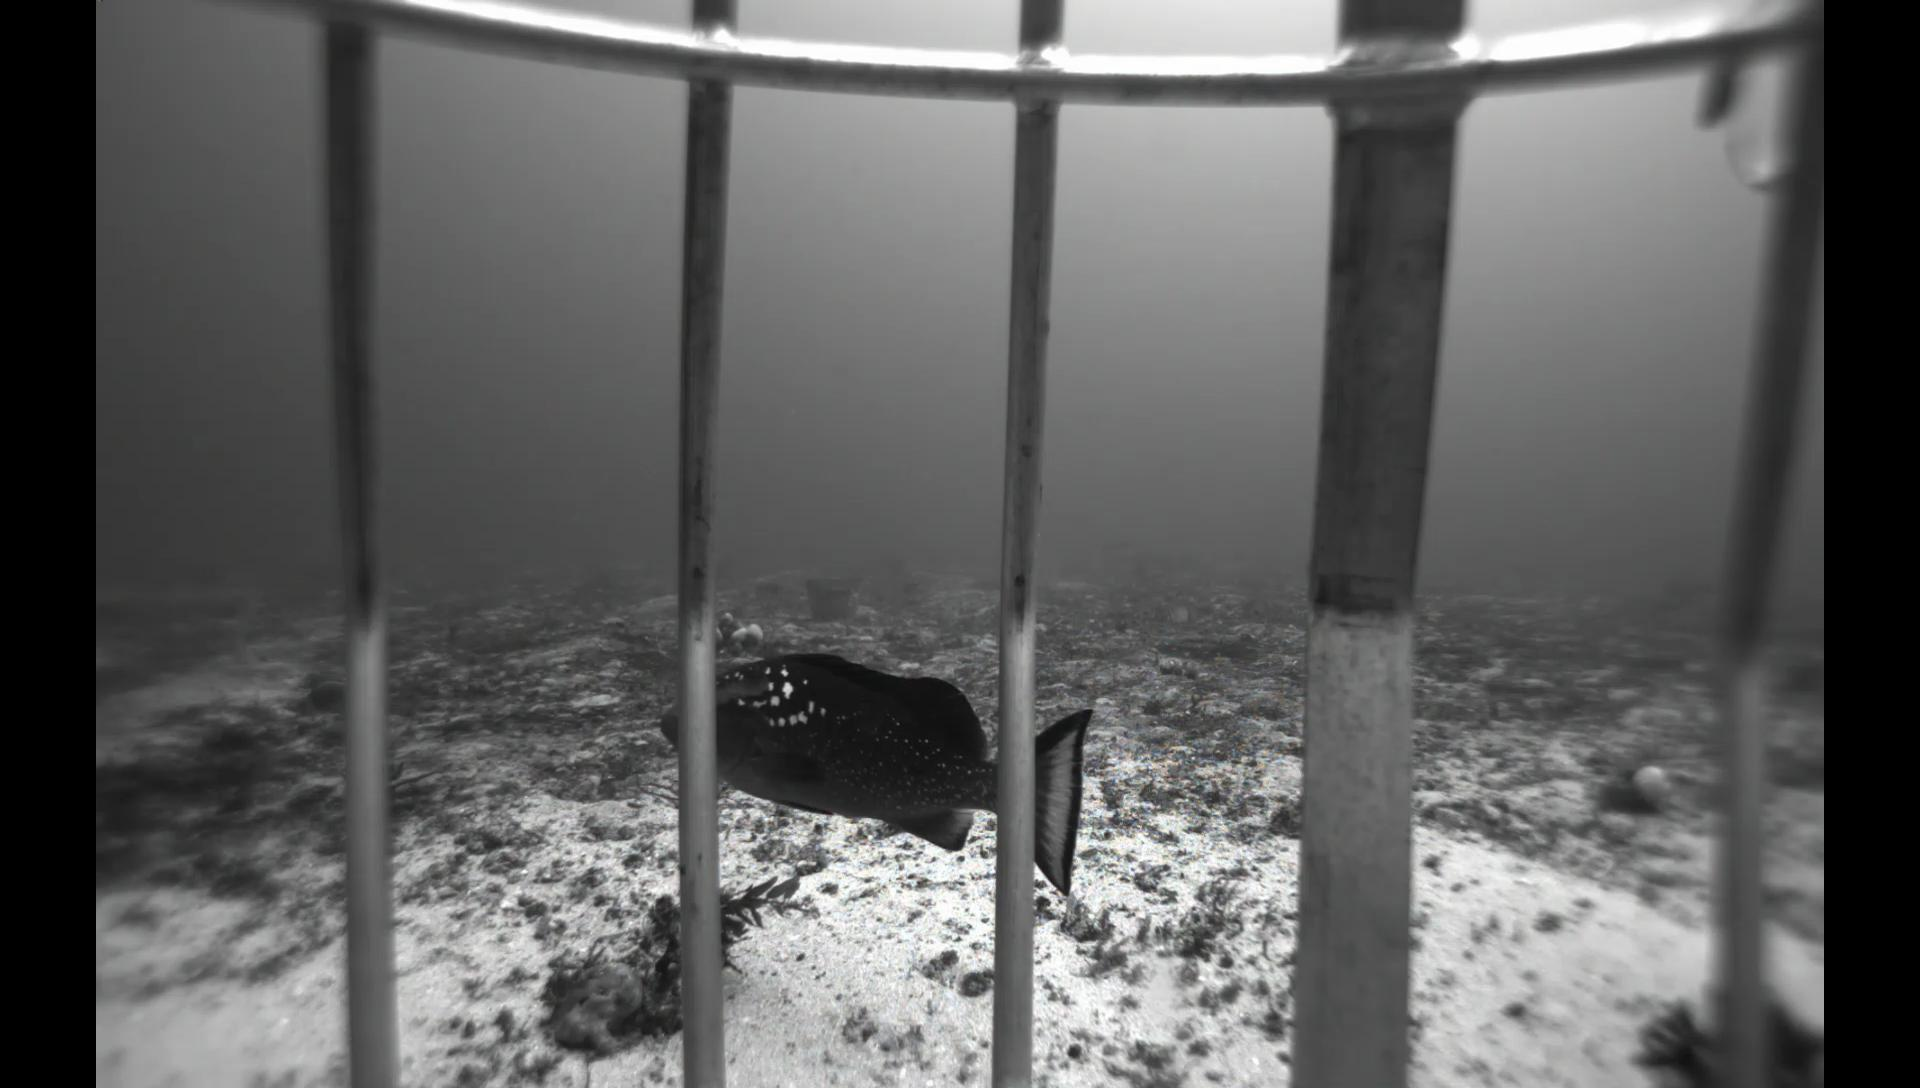CHAETODONOCELLATUS-170260307: (1228, 593, 1275, 624), (1156, 601, 1197, 628)
EPINEPHELUSMORIO-170021211: (646, 641, 1098, 901)
PRISTIGENYSALTA-170050401: (295, 678, 345, 721)
